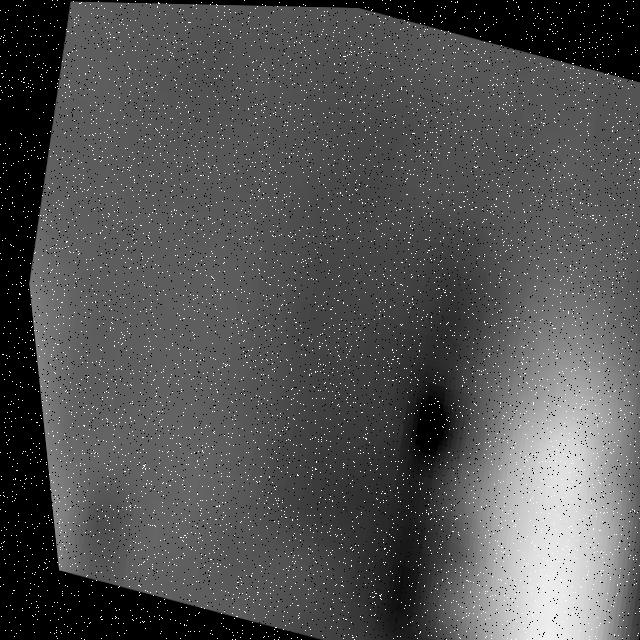person: (381, 264, 640, 640), (25, 295, 104, 569)
